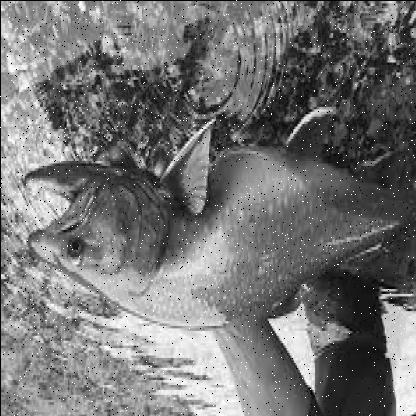fish: (11, 107, 415, 347)
